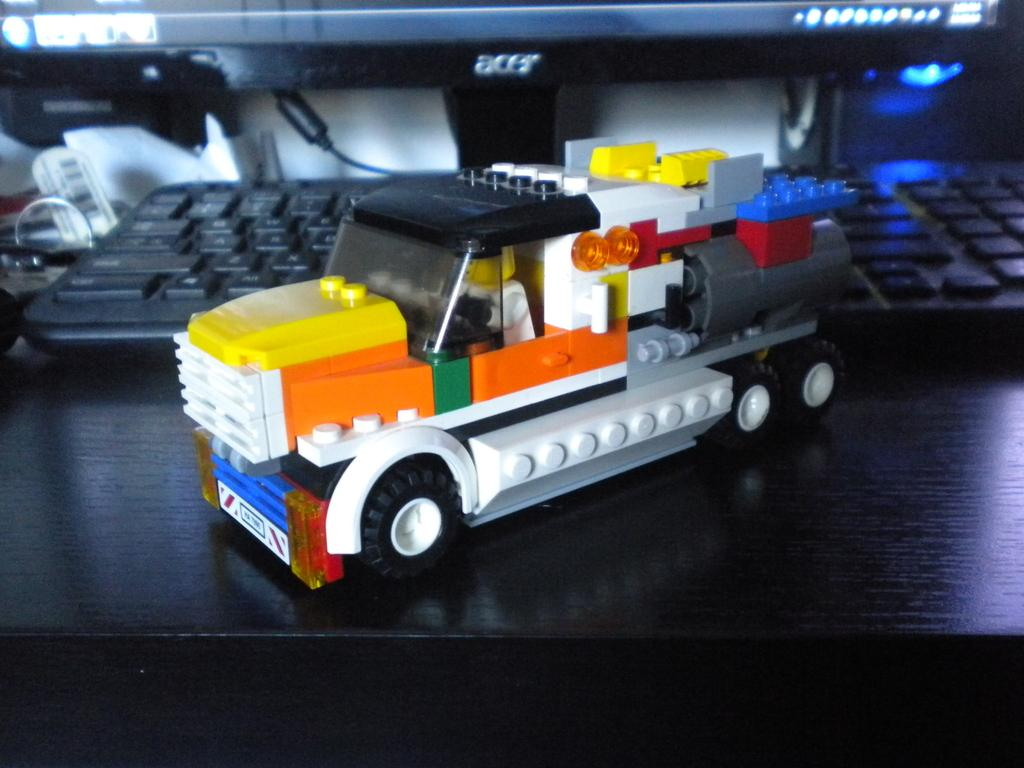Computer-keyboard: (19, 179, 1023, 357)
